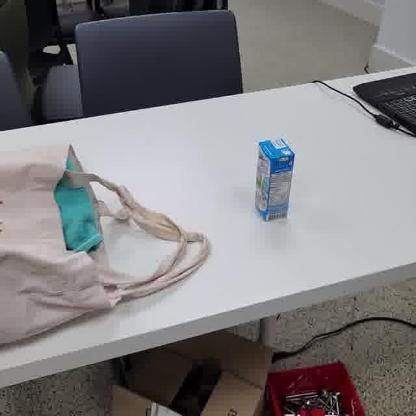Others: (252, 132, 296, 230)
